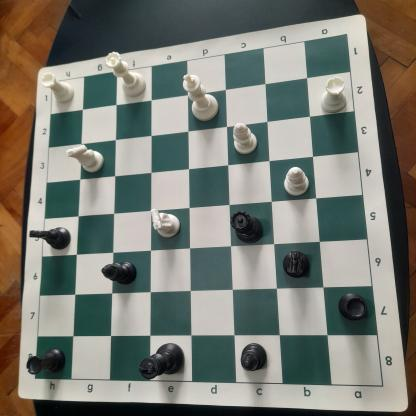black-bishop: (97, 256, 140, 287), (238, 337, 270, 374)
black-king: (131, 340, 190, 384)
black-knight: (28, 221, 72, 252), (281, 249, 313, 281)
black-queen: (229, 210, 268, 247)
black-rook: (23, 344, 67, 376), (337, 292, 370, 323)
white-bishop: (230, 121, 260, 157), (283, 164, 311, 198)
white-king: (180, 71, 222, 124)
white-knight: (64, 140, 106, 176), (150, 203, 184, 241)
white-queen: (103, 50, 148, 100)
white-rook: (40, 70, 77, 105), (318, 76, 350, 113)
